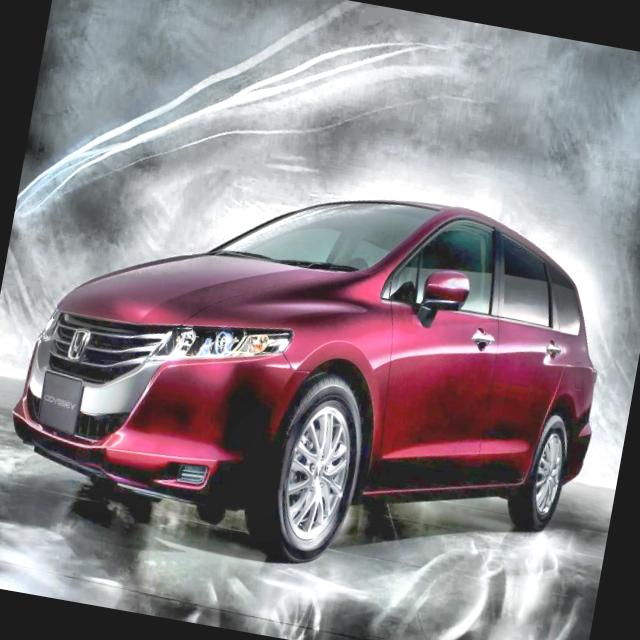Car: (0, 138, 624, 608)
